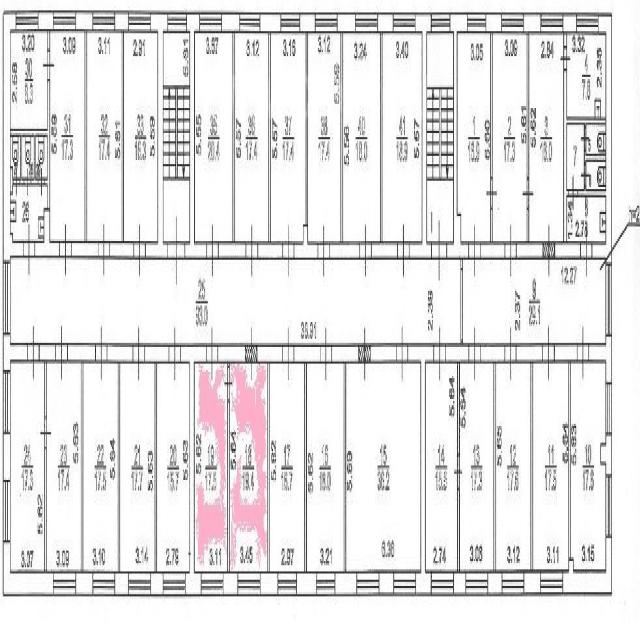Bathrooms: (10, 185, 47, 241), (567, 197, 605, 241), (587, 125, 606, 153), (587, 162, 605, 189), (22, 137, 34, 177), (36, 137, 47, 179), (11, 136, 20, 178)
Corridors: (11, 260, 460, 345), (463, 261, 605, 343), (567, 125, 584, 189)
Doors: (167, 215, 185, 287), (431, 219, 447, 282), (542, 323, 555, 384), (55, 324, 68, 384), (468, 324, 481, 383), (132, 326, 145, 385), (397, 222, 410, 280), (396, 324, 409, 382), (433, 325, 446, 383), (317, 222, 330, 279), (133, 221, 146, 278), (245, 323, 257, 384), (358, 327, 371, 383), (282, 221, 295, 277), (97, 221, 110, 277), (542, 222, 555, 277), (505, 221, 517, 280), (320, 325, 332, 384), (360, 221, 372, 280), (28, 320, 39, 384), (23, 223, 36, 277), (59, 221, 71, 279), (169, 326, 181, 384), (206, 326, 218, 384), (282, 326, 294, 384), (580, 225, 593, 278), (577, 323, 589, 380), (95, 325, 107, 382), (246, 221, 258, 277), (207, 223, 219, 279), (469, 225, 481, 279), (505, 324, 516, 381), (40, 416, 52, 449), (568, 173, 578, 212), (453, 452, 463, 491), (522, 177, 534, 209), (486, 177, 497, 209), (43, 50, 54, 81), (224, 368, 233, 402), (560, 46, 571, 71), (580, 160, 590, 187), (580, 124, 589, 150), (13, 165, 20, 198), (38, 167, 45, 198), (24, 167, 31, 196), (461, 268, 463, 340)
LBwalls: (408, 343, 434, 597), (181, 343, 206, 597), (2, 10, 24, 263), (146, 11, 168, 261), (409, 13, 431, 260), (185, 13, 207, 259), (447, 12, 468, 259), (592, 12, 612, 265), (563, 538, 612, 596), (3, 542, 53, 597), (35, 208, 59, 257), (589, 336, 612, 384), (2, 334, 28, 370), (294, 223, 318, 260), (563, 70, 567, 241), (67, 343, 96, 364), (218, 342, 245, 364), (329, 241, 360, 260), (219, 241, 246, 261), (516, 343, 543, 363), (480, 343, 505, 364), (372, 241, 398, 261), (107, 343, 133, 363), (517, 241, 542, 261), (371, 343, 396, 363), (296, 571, 316, 596), (144, 344, 169, 364), (332, 344, 358, 363), (600, 434, 612, 475), (71, 241, 98, 259), (335, 572, 356, 595), (110, 240, 134, 260), (480, 241, 505, 260), (257, 344, 282, 363), (555, 241, 581, 259), (294, 345, 320, 363), (260, 12, 281, 34), (555, 342, 577, 363), (258, 241, 282, 260), (445, 344, 469, 363), (260, 571, 278, 596), (76, 571, 93, 597), (2, 432, 11, 481), (524, 571, 540, 595), (47, 81, 50, 209), (222, 12, 239, 34), (76, 10, 92, 33), (115, 571, 129, 597), (337, 12, 355, 32), (379, 571, 394, 595), (223, 572, 238, 596), (524, 12, 541, 33), (377, 12, 393, 34), (488, 571, 502, 596), (486, 12, 501, 34), (453, 571, 466, 596), (300, 12, 315, 33), (115, 10, 129, 32), (38, 10, 53, 30), (39, 344, 56, 361), (151, 572, 163, 596), (563, 12, 576, 34), (10, 165, 13, 195), (47, 32, 50, 50), (563, 34, 567, 46)
Offices: (346, 363, 420, 569), (383, 34, 422, 240), (343, 33, 380, 241), (307, 363, 344, 571), (230, 363, 267, 571), (195, 34, 232, 241), (571, 362, 606, 570), (533, 363, 568, 570), (271, 33, 305, 242), (270, 363, 304, 572), (460, 363, 494, 571), (83, 363, 117, 571), (47, 363, 81, 571), (496, 364, 530, 571), (88, 31, 121, 241), (51, 31, 84, 241), (124, 32, 157, 241), (11, 362, 44, 571), (308, 33, 341, 241), (121, 363, 154, 571), (530, 34, 563, 241), (235, 34, 268, 241), (493, 34, 526, 241), (195, 363, 227, 572), (157, 364, 189, 571), (458, 34, 490, 240), (426, 363, 457, 570), (11, 33, 47, 129), (567, 34, 606, 117)
Stairs: (164, 33, 190, 242), (427, 34, 453, 240)
Walls: (10, 129, 47, 187), (268, 31, 271, 242), (304, 363, 307, 572), (344, 363, 347, 571), (267, 364, 270, 572), (568, 362, 571, 558), (305, 32, 308, 225), (227, 401, 230, 572), (567, 116, 606, 129), (233, 33, 235, 243), (85, 31, 87, 241), (341, 33, 343, 242), (155, 363, 157, 572), (118, 364, 120, 573), (494, 363, 496, 571), (81, 363, 83, 571), (531, 364, 533, 571), (122, 33, 124, 240), (44, 448, 47, 571), (584, 150, 606, 166), (578, 185, 606, 196), (491, 33, 493, 178), (527, 32, 529, 175), (457, 363, 460, 453), (381, 33, 382, 241), (44, 361, 47, 416), (457, 489, 459, 571), (490, 209, 493, 241), (527, 209, 529, 241), (460, 259, 463, 270), (227, 361, 230, 367), (566, 190, 568, 197), (45, 179, 47, 186)
Windows: (53, 570, 76, 597), (2, 370, 11, 435), (2, 261, 10, 334), (92, 573, 116, 597), (393, 570, 416, 595), (431, 571, 454, 596), (540, 569, 563, 594), (2, 481, 11, 543), (163, 573, 186, 597), (356, 573, 379, 597), (201, 571, 223, 596), (502, 570, 524, 595), (129, 573, 151, 597), (238, 573, 260, 597), (605, 262, 612, 335), (466, 573, 487, 597), (576, 14, 599, 35), (540, 13, 563, 34), (128, 10, 151, 31), (15, 10, 38, 31), (501, 12, 524, 32), (355, 12, 378, 32), (199, 12, 222, 32), (92, 12, 115, 32), (53, 12, 76, 32), (316, 573, 335, 597), (239, 13, 260, 34), (605, 475, 612, 538), (393, 12, 415, 32), (315, 12, 337, 32), (278, 573, 296, 597), (280, 12, 300, 32), (467, 13, 486, 34), (431, 13, 450, 34), (167, 13, 186, 34), (605, 383, 612, 434)
